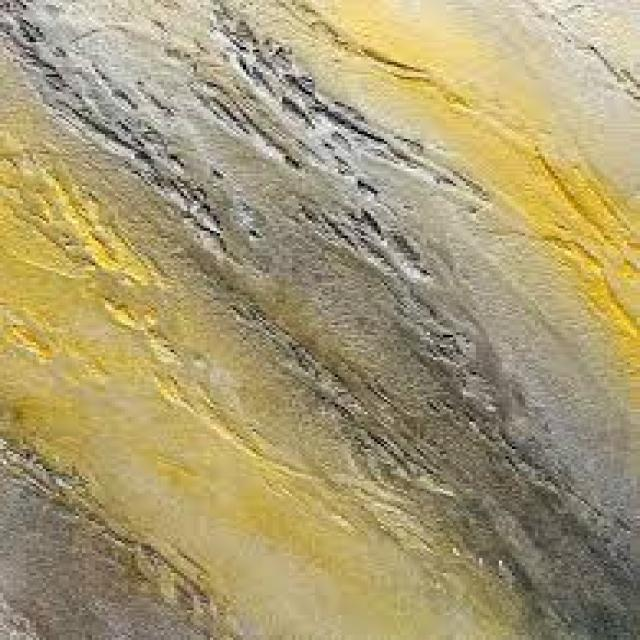Metamorphic: (3, 3, 637, 635)
